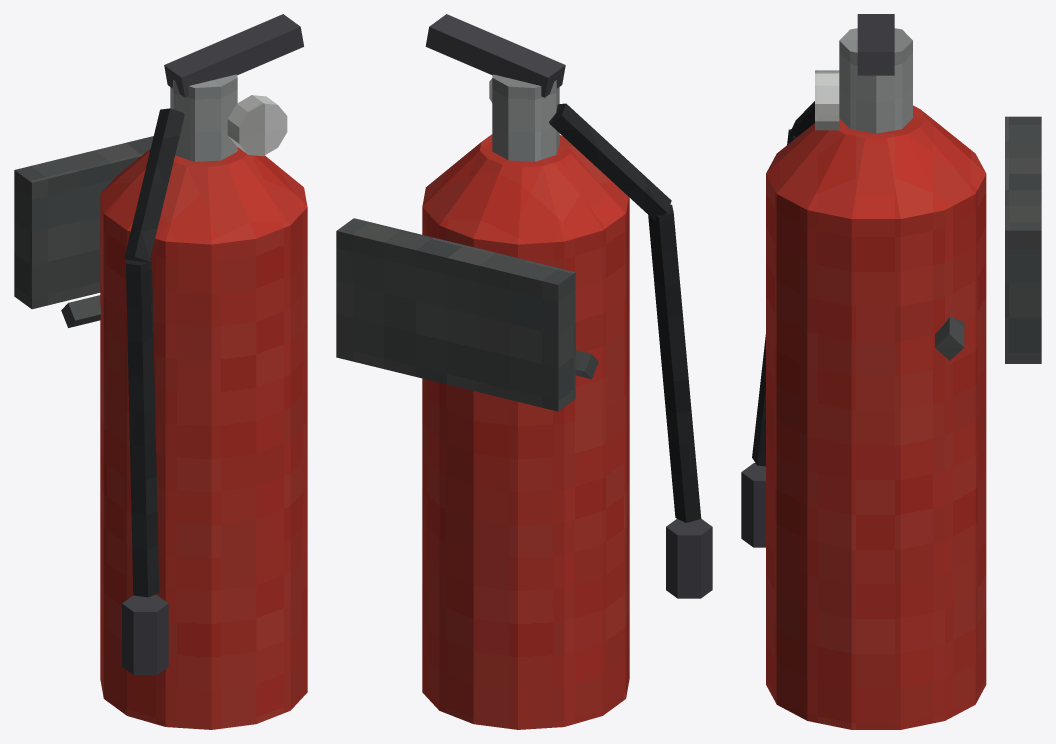
File: fire_extinguisher.glb
3 renders of one model, left to right at view 1: azimuth 30°, elevation 25°; view 2: azimuth 150°, elevation 25°; view 3: azimuth 270°, elevation 25°, orthographic. The views are drawn at different scales.
Parts seen in each view (by area): view 1: body; view 2: body; view 3: body.
Boxes of the visible parts, left/top/right/bottom form: body: left=14, top=14, right=307, bottom=729; body: left=336, top=14, right=712, bottom=729; body: left=741, top=14, right=1041, bottom=729.
Bounding box in the file's own units: 0.2373 × 0.6103 × 0.245.
Materials: 6 (5 with a texture image).
